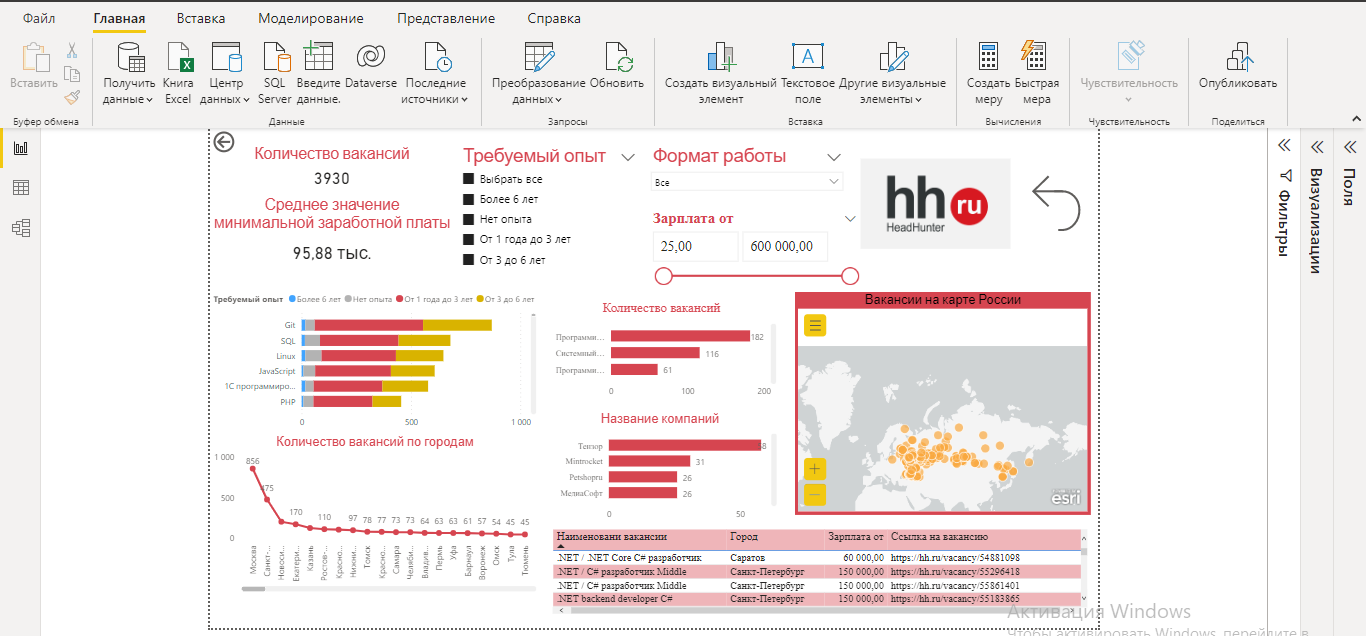

Layout of this report page (visuals, bound fields, positions):
{"tool":"powerbi","page":{"name":"Исследование вакансий","canvas":[1280,720],"ordinal":0},"visuals":[{"type":"slicer","fields":{"Values":["Sheet1.Зарплата от"]},"box":[159.8,113.8,289.4,169.9],"z":0},{"type":"slicer","fields":{"Values":["Sheet1.Требуемый опыт"]},"box":[159.8,283.7,289.4,103.7],"z":1000},{"type":"slicer","fields":{"Values":["Sheet1.Формат работы"]},"box":[0,283.7,159.8,103.7],"z":2000},{"type":"card","title":"Количество вакансий","fields":{"Values":["Count(Sheet1.id)"]},"box":[449.3,0,172.8,113.8],"z":4000},{"type":"actionButton","box":[0,0,100,40],"z":5000},{"type":"card","title":"Среднее от минимальных зарплат","fields":{"Values":["Avg(Sheet1.Зарплата от)"]},"box":[622.1,0,256.3,113.8],"z":6000},{"type":"barChart","title":"Количество вакансий по навыкам и опыту","fields":{"Category":["Таблица навыков.Навыки"],"Y":["CountNonNull(Таблица навыков.id)"],"Series":["Таблица без навыков.Требуемый опыт"]},"box":[805,113.8,475.2,273.6],"z":7000},{"type":"esriVisual","title":"Вакансии на карте","fields":{"Location":["Таблица без навыков.Город"]},"box":[0,387.4,449.3,332.6],"z":8000},{"type":"barChart","title":"Количество вакансий  по городам","fields":{"Category":["Таблица без навыков.Город"],"Y":["CountNonNull(Таблица без навыков.id)"]},"box":[449.3,113.8,355.7,273.6],"z":9000},{"type":"barChart","title":"Количество вакансий по названию ","fields":{"Category":["Таблица без навыков.Наименовани вакансии"],"Y":["CountNonNull(Таблица без навыков.id)"]},"box":[805,387.4,475.2,332.6],"z":10000},{"type":"barChart","title":"Количество вакансий в компаниях","fields":{"Y":["CountNonNull(Таблица без навыков.id)"],"Category":["Таблица без навыков.Название компании"]},"box":[449.3,387.4,355.7,332.6],"z":11000},{"type":"actionButton","box":[1163.5,0,116.6,113.8],"z":12000},{"type":"card","title":"Среднее от максимальных зарплат","fields":{"Values":["Avg(Таблица без навыков.Зарплата до)"]},"box":[878.4,0,285.1,113.8],"z":13000},{"type":"textbox","title":"Исследование заработных плат для IT специалистов на май 2022 года по данным сайта hh.ru","box":[0,0,449.3,113.8],"z":14000},{"type":"slicer","title":"Город","fields":{"Values":["Таблица без навыков.Город"]},"box":[0,113.8,159.8,169.9],"z":15000}]}

Visuals, with their boxes on the page's 1280x720 design canvas (x1, y1, x2, y2). These are canvas units, not pixel positions in the 1366x636 screenshot, which may show the page scaled, cropped or inside an application window:
slicer - Sheet1.Зарплата от: locate(160, 114, 449, 284)
slicer - Sheet1.Требуемый опыт: locate(160, 284, 449, 387)
slicer - Sheet1.Формат работы: locate(0, 284, 160, 387)
"Количество вакансий" card: locate(449, 0, 622, 114)
actionButton: locate(0, 0, 100, 40)
"Среднее от минимальных зарплат" card: locate(622, 0, 878, 114)
"Количество вакансий по навыкам и опыту" barChart: locate(805, 114, 1280, 387)
"Вакансии на карте" esriVisual: locate(0, 387, 449, 720)
"Количество вакансий  по городам" barChart: locate(449, 114, 805, 387)
"Количество вакансий по названию " barChart: locate(805, 387, 1280, 720)
"Количество вакансий в компаниях" barChart: locate(449, 387, 805, 720)
actionButton: locate(1164, 0, 1280, 114)
"Среднее от максимальных зарплат" card: locate(878, 0, 1164, 114)
"Исследование заработных плат для IT специалистов на май 2022 года по данным сайта hh.ru" textbox: locate(0, 0, 449, 114)
"Город" slicer: locate(0, 114, 160, 284)
